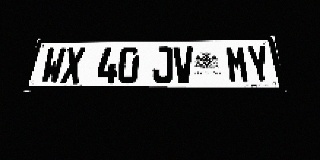0: (117, 47, 139, 84)
4: (96, 47, 120, 84)
J: (152, 47, 173, 84)
M: (225, 46, 251, 83)
V: (173, 46, 194, 83)
W: (39, 48, 66, 84)
X: (60, 47, 86, 84)
Y: (246, 46, 273, 83)
